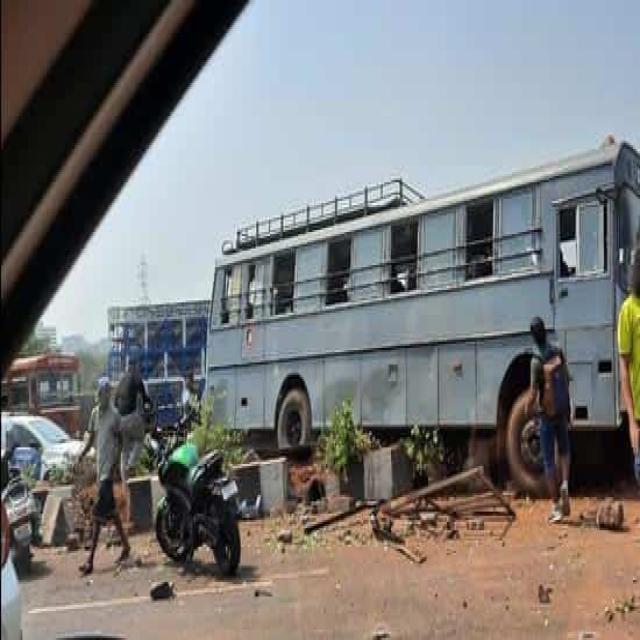bus: (206, 138, 640, 493), (3, 350, 91, 437)
motorcycle: (150, 411, 240, 574), (2, 425, 52, 592)
